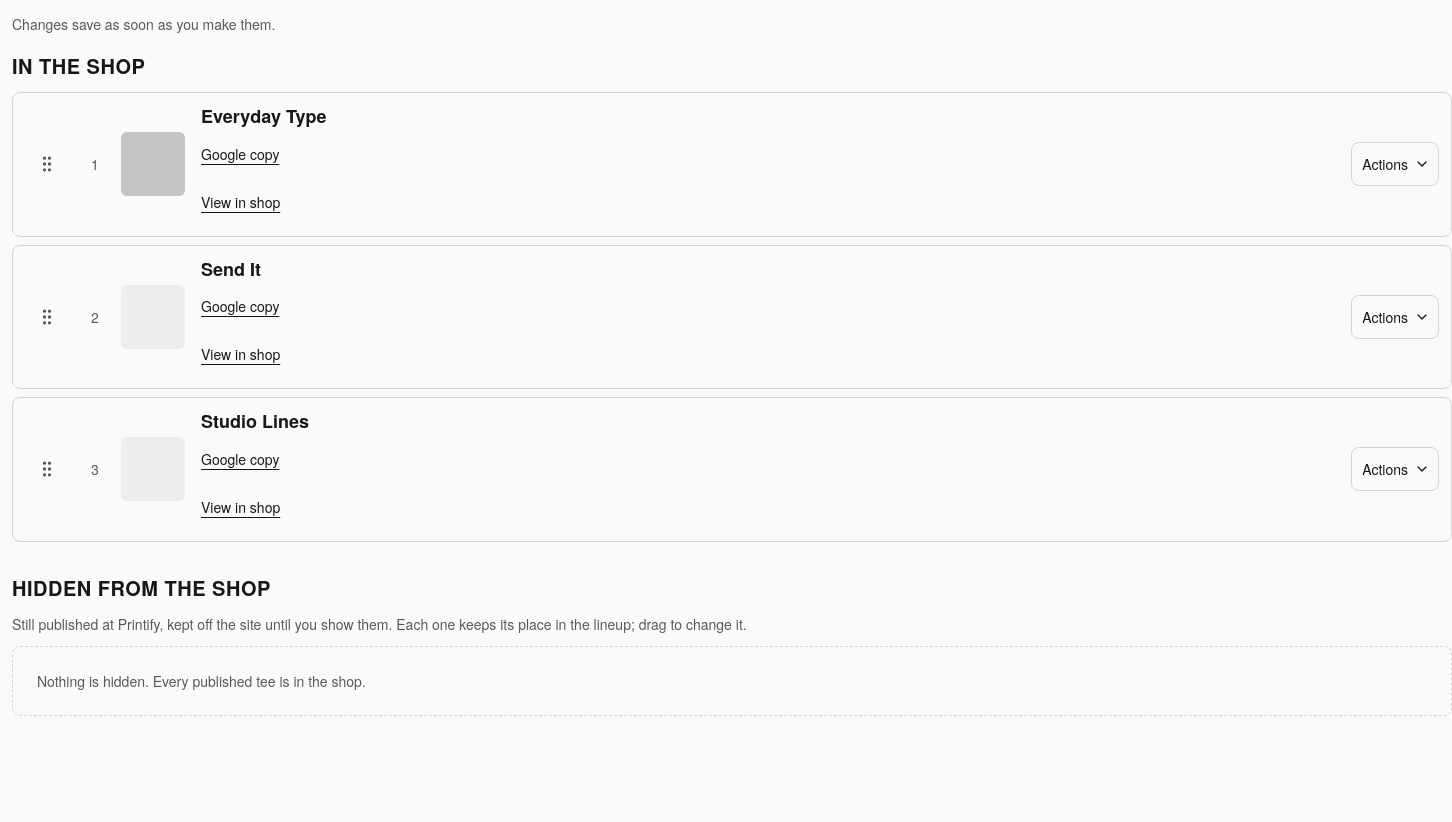
Test: FeaturedOrderList › hands focus back to Actions when a hide fails and the row returns
This screenshot has width=1452, height=822.
Click the button with aria-label "Actions for Send It" at (1395,317), box [1351,295,1439,339]
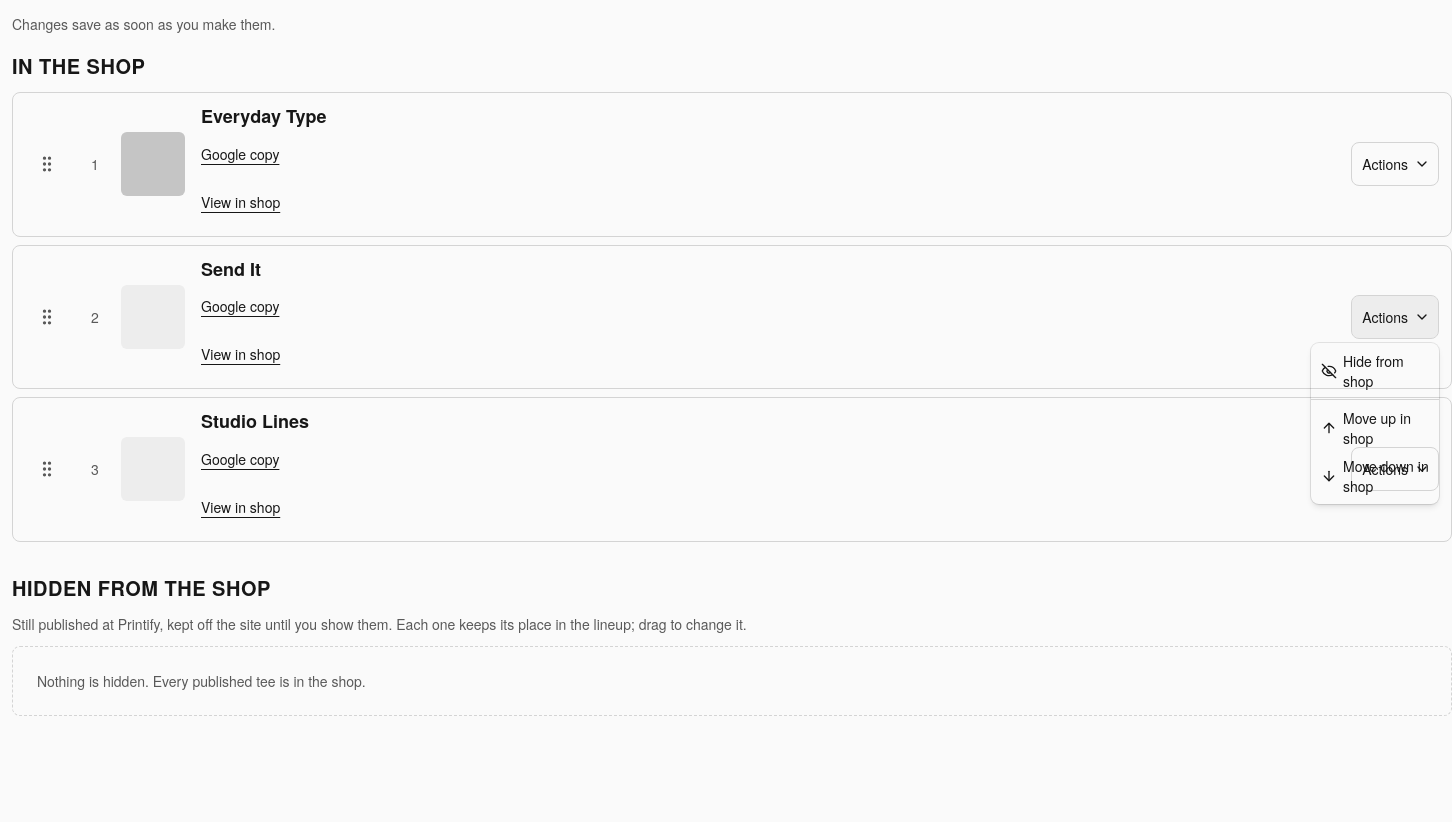
Click the menu item "Hide from shop" at (1362,371), box [1321,351,1404,391]
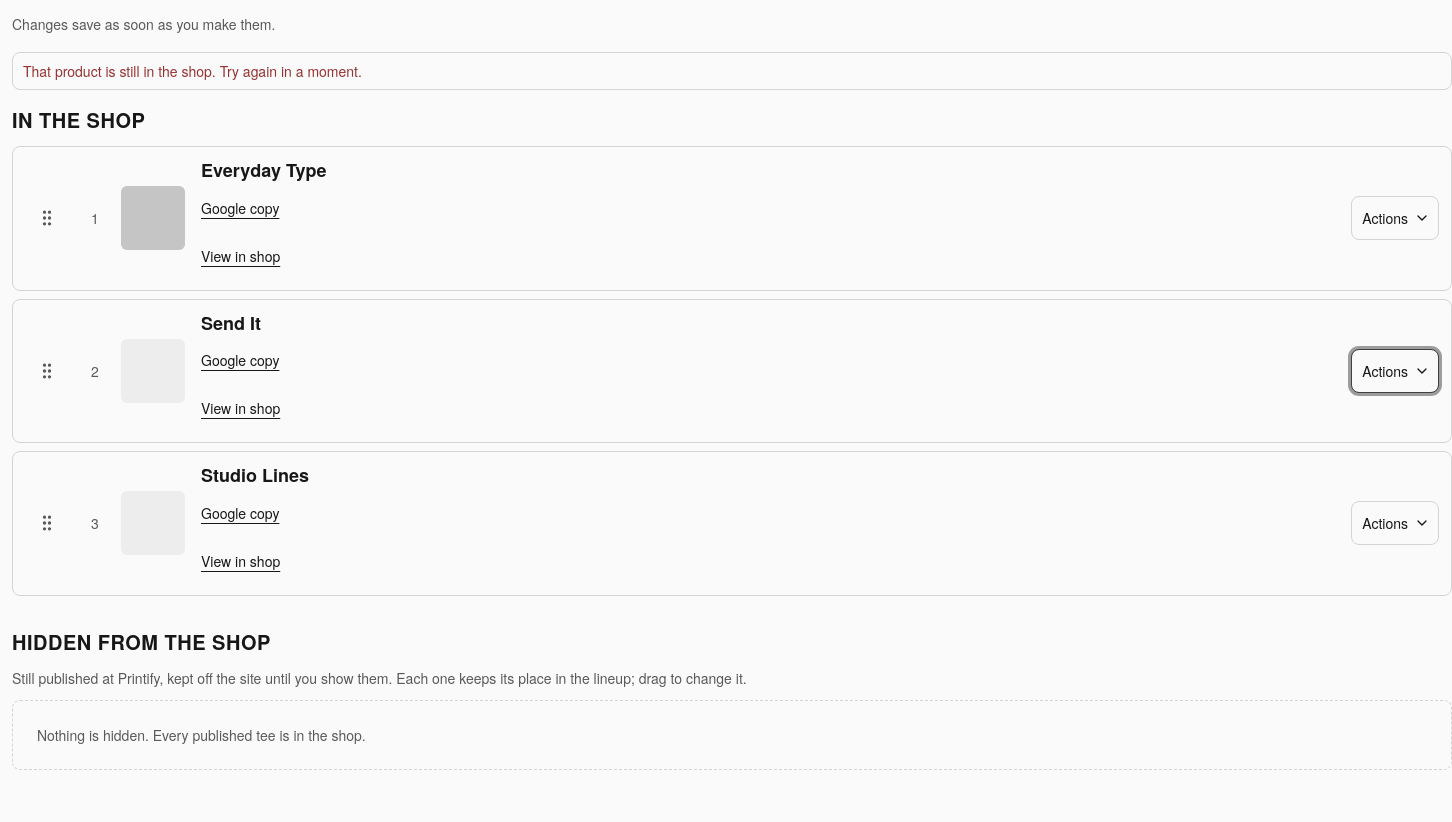
Expected: the message "That product is still in the shop. Try again in a moment." is shown, [12,52,1451,90]
